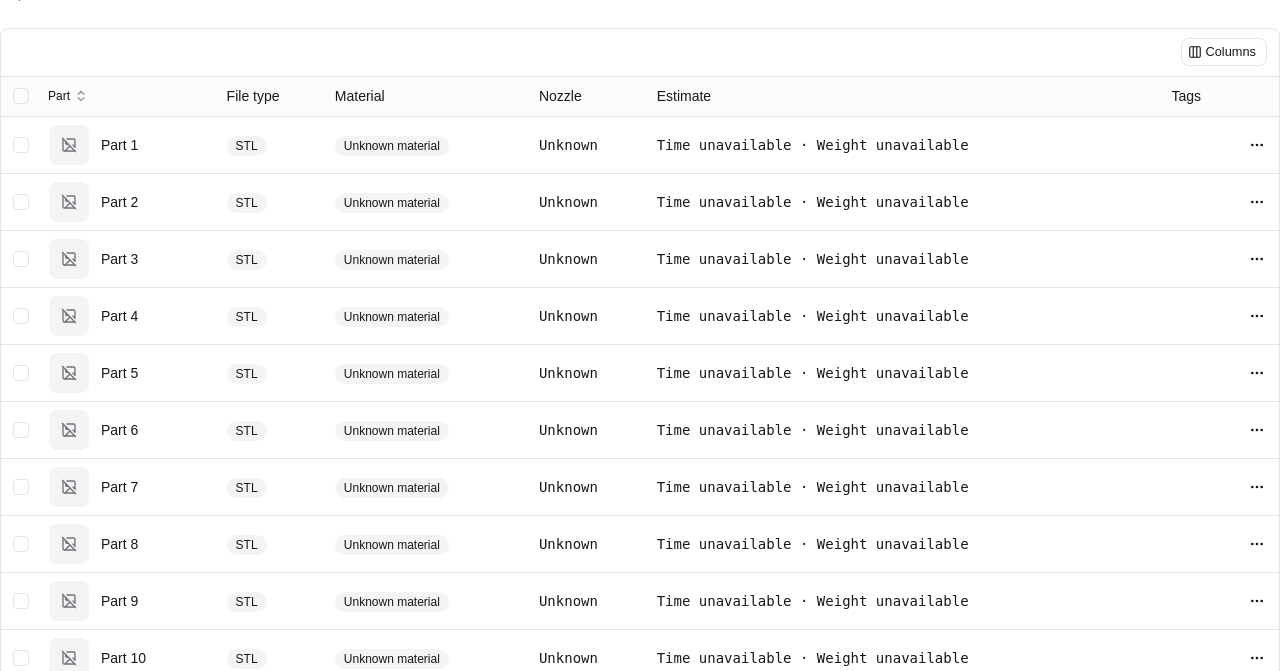
Test: PartsPage › changes the server page size and clears page-local selection
Click the checkbox named "Select Part 1" at {"x": 21, "y": 145}, box [13,137,29,153]
(page scrolled)
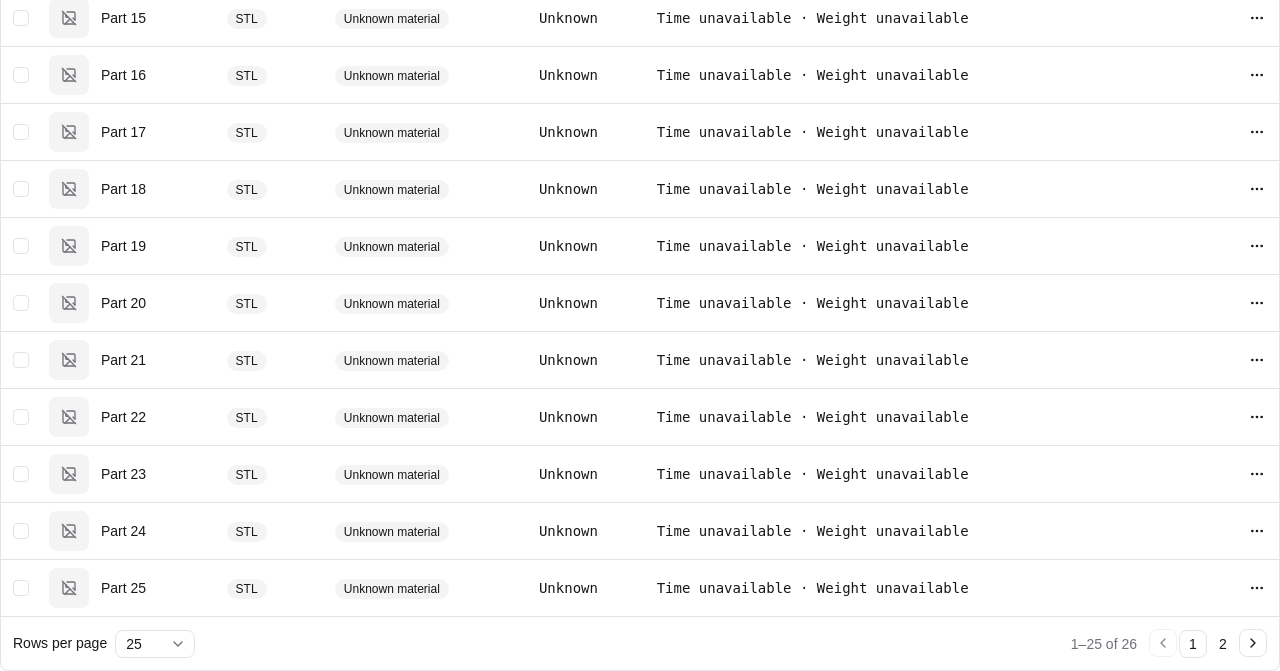
Click the dropdown named "Rows per page" at {"x": 155, "y": 644}, box [115,630,195,658]
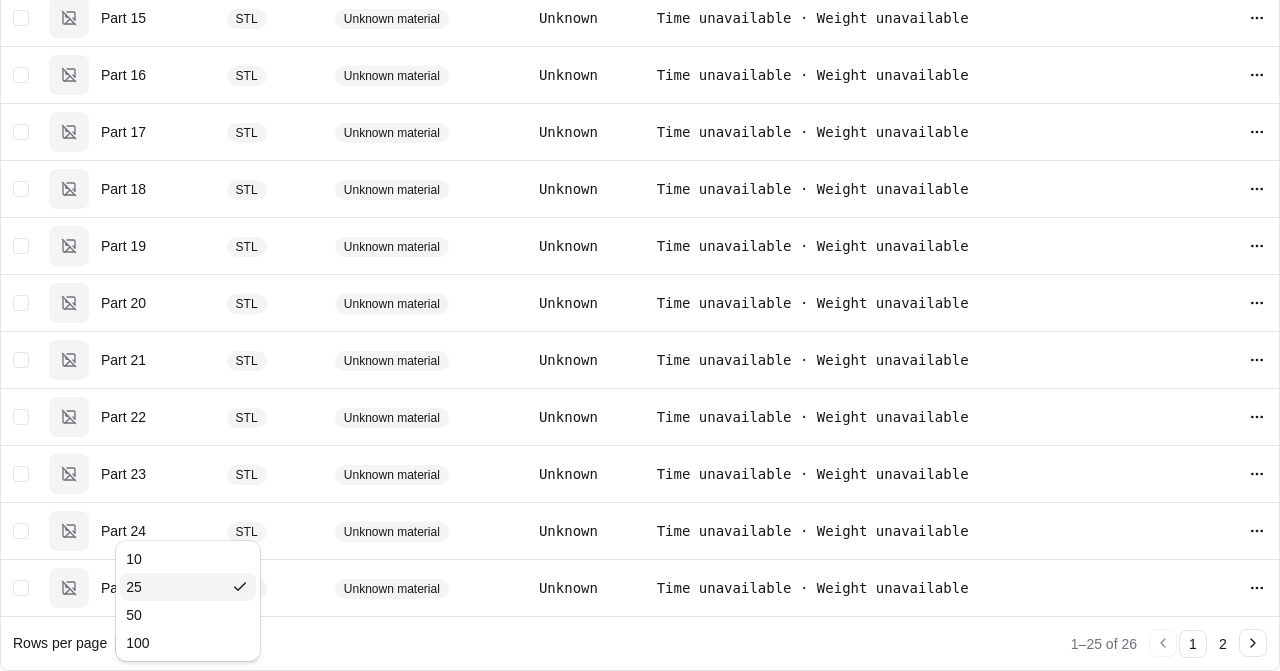
Click the option "10" at {"x": 134, "y": 559}, box [126,551,142,567]
(page scrolled)
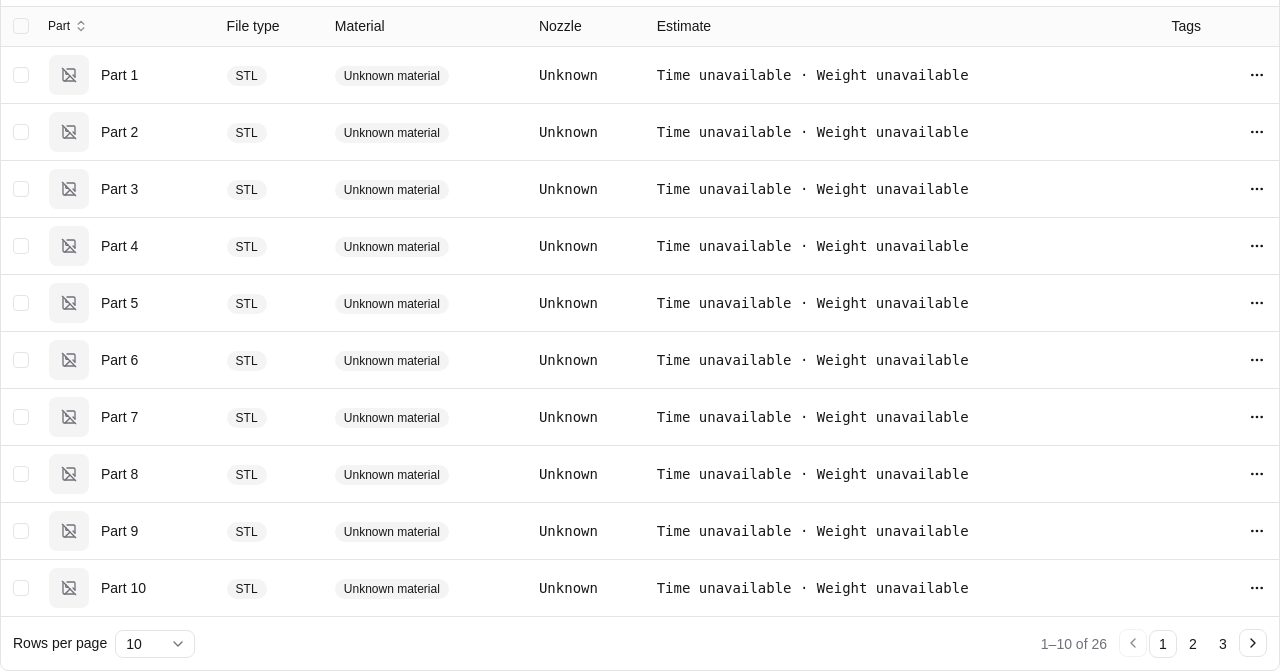
Check: the text "1–10 of 26" is shown, box [1041,634,1107,654]
